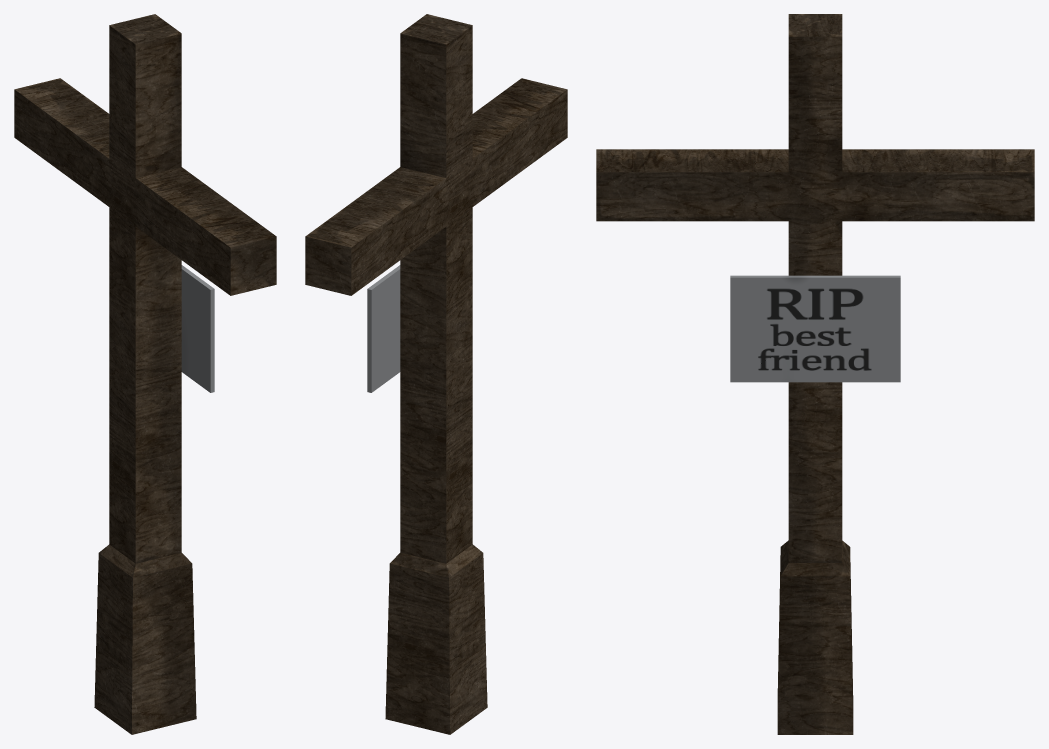
The model's file is low_poly_cross.glb.
3 views of the same model, side by side, from view 1: azimuth 30°, elevation 25°; view 2: azimuth 150°, elevation 25°; view 3: azimuth 270°, elevation 25° (orthographic).
Parts seen in each view (by area): view 1: Krest; view 2: Krest; view 3: Krest.
Boxes of the visible parts, x1,y1,x2,y2 form: Krest: (14,14,276,734); Krest: (305,14,567,734); Krest: (596,14,1034,734).
Size of the model in its own units: 0.3436 by 3.47 by 1.99.
Materials: 1 (1 with a texture image).
